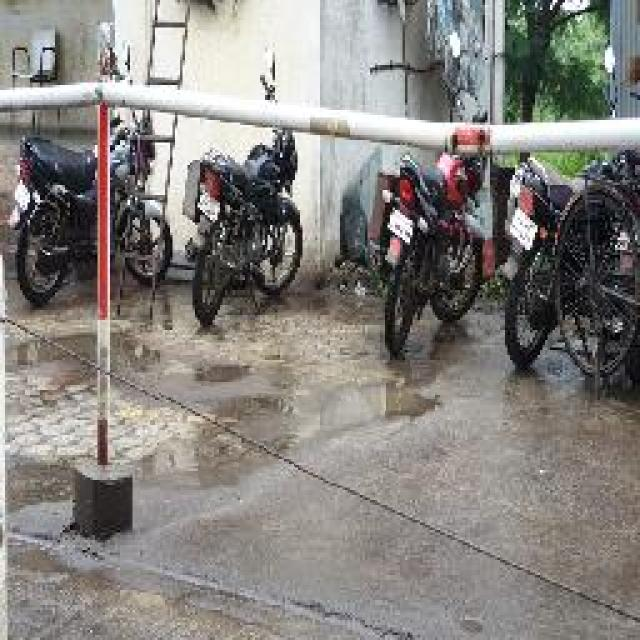puddle: (158, 362, 436, 488)
